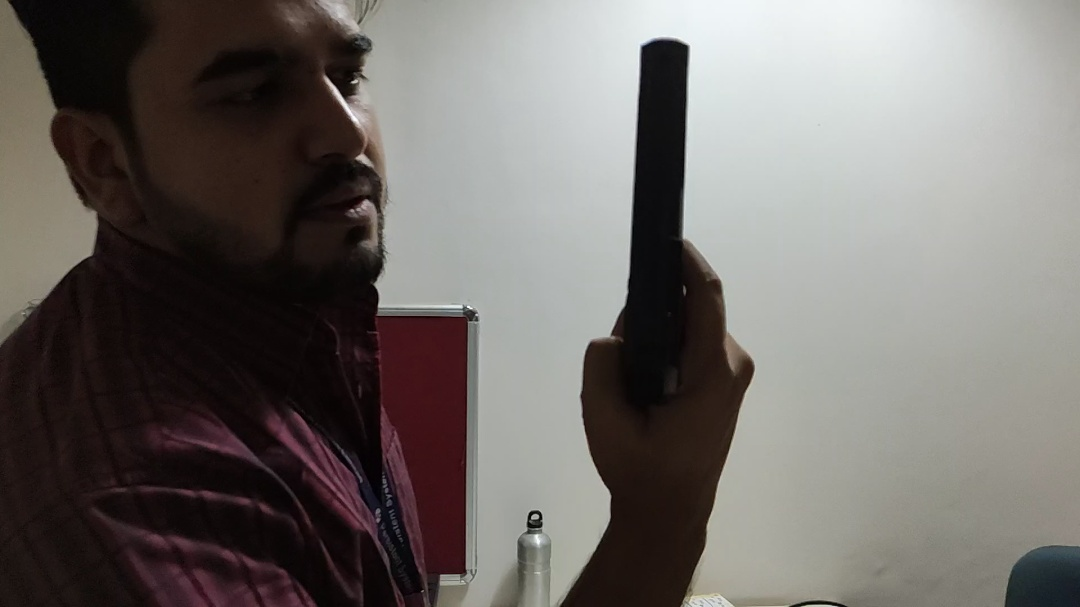gun: (607, 35, 721, 418)
